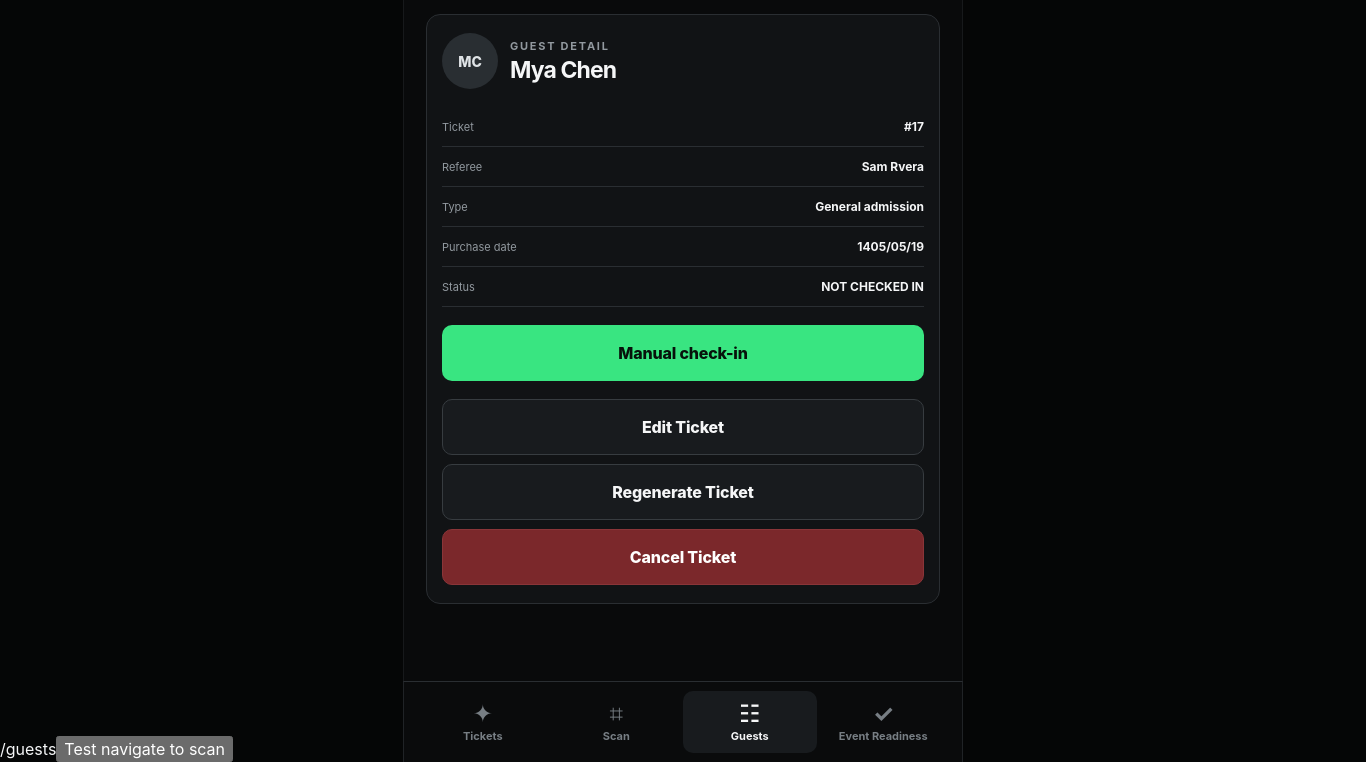
Test: ticket correction UI › lets ADMIN correct ticket details and offers updated artwork without replacing the QR
(page scrolled)
Click the button "Edit Ticket" at (683, 428), box [442,400,924,456]
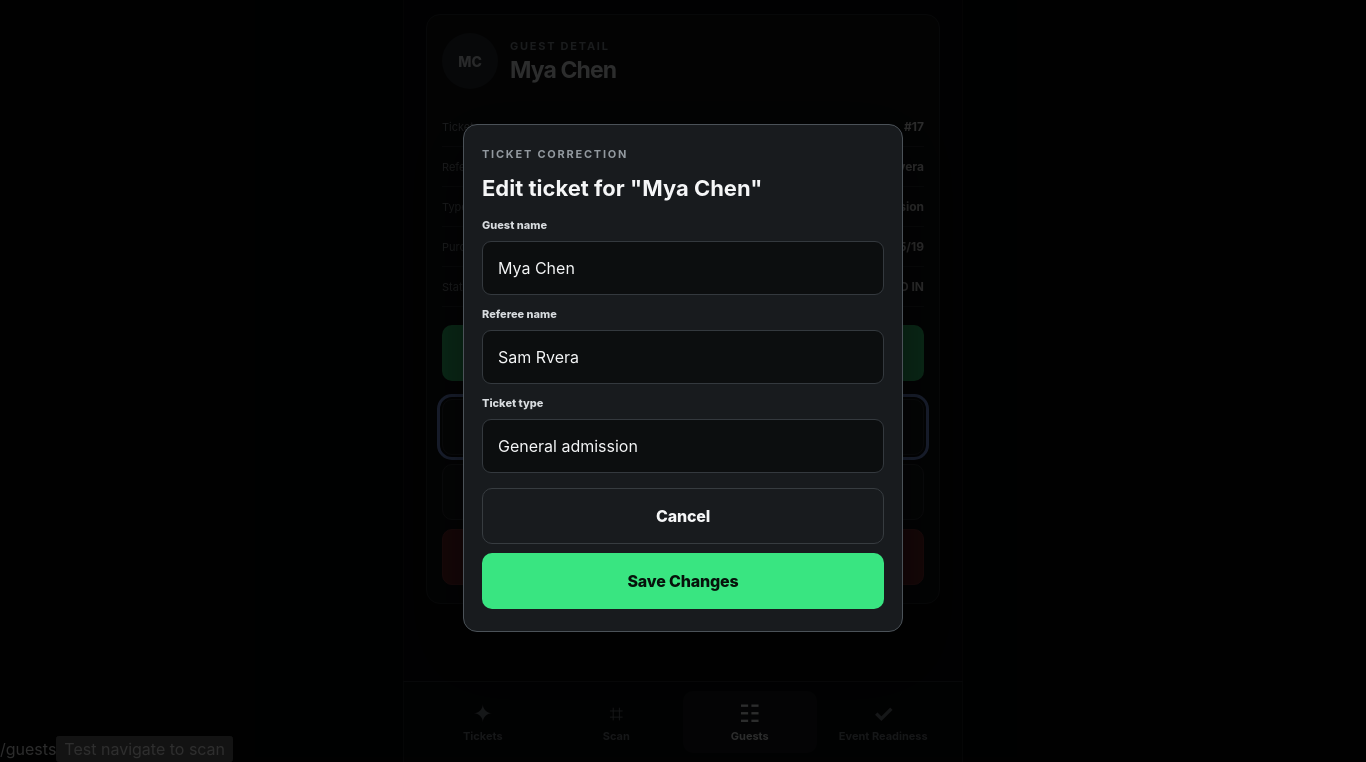
Replace the text in the field labelled "Guest name" with "Maya Chen" at (683, 268), box [482,241,884,295]
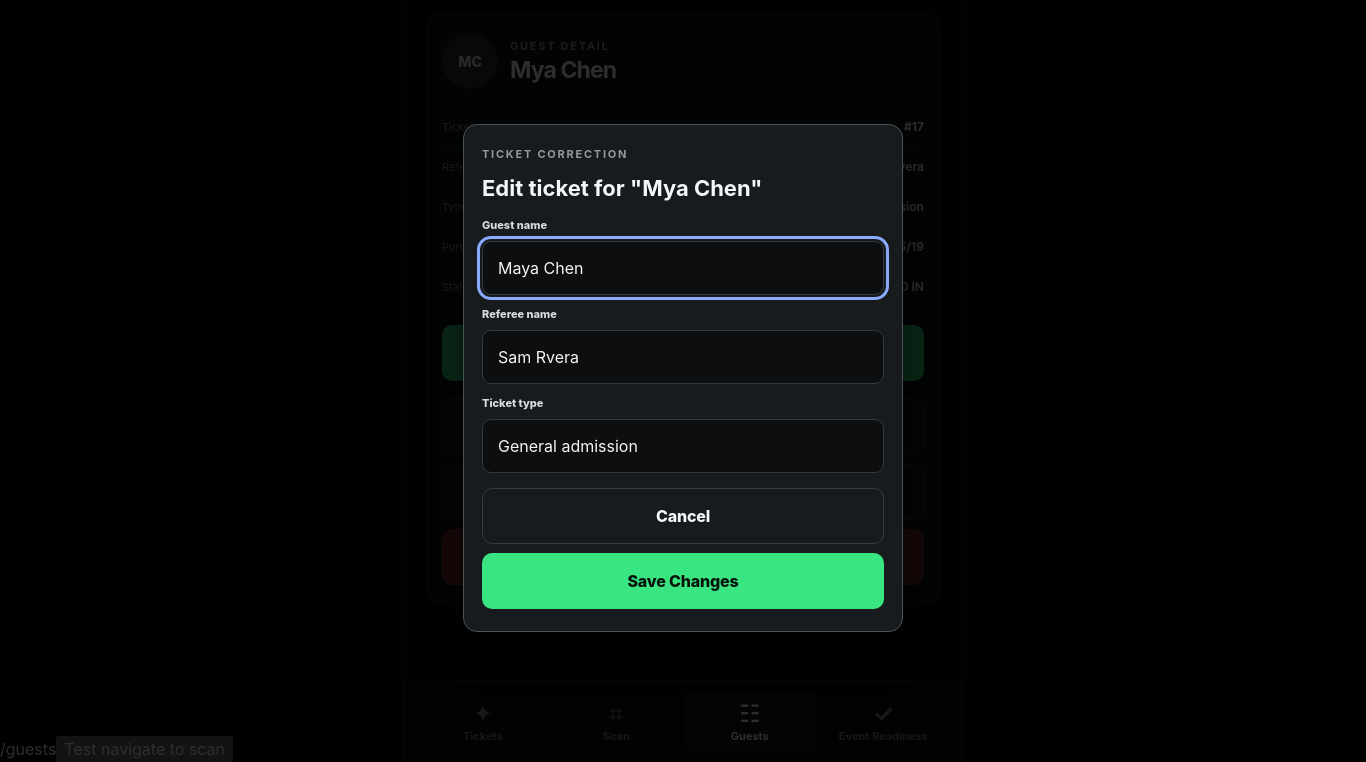
Replace the text in the field labelled "Referee name" with "Sam Rivera" at (683, 357), box [482,330,884,384]
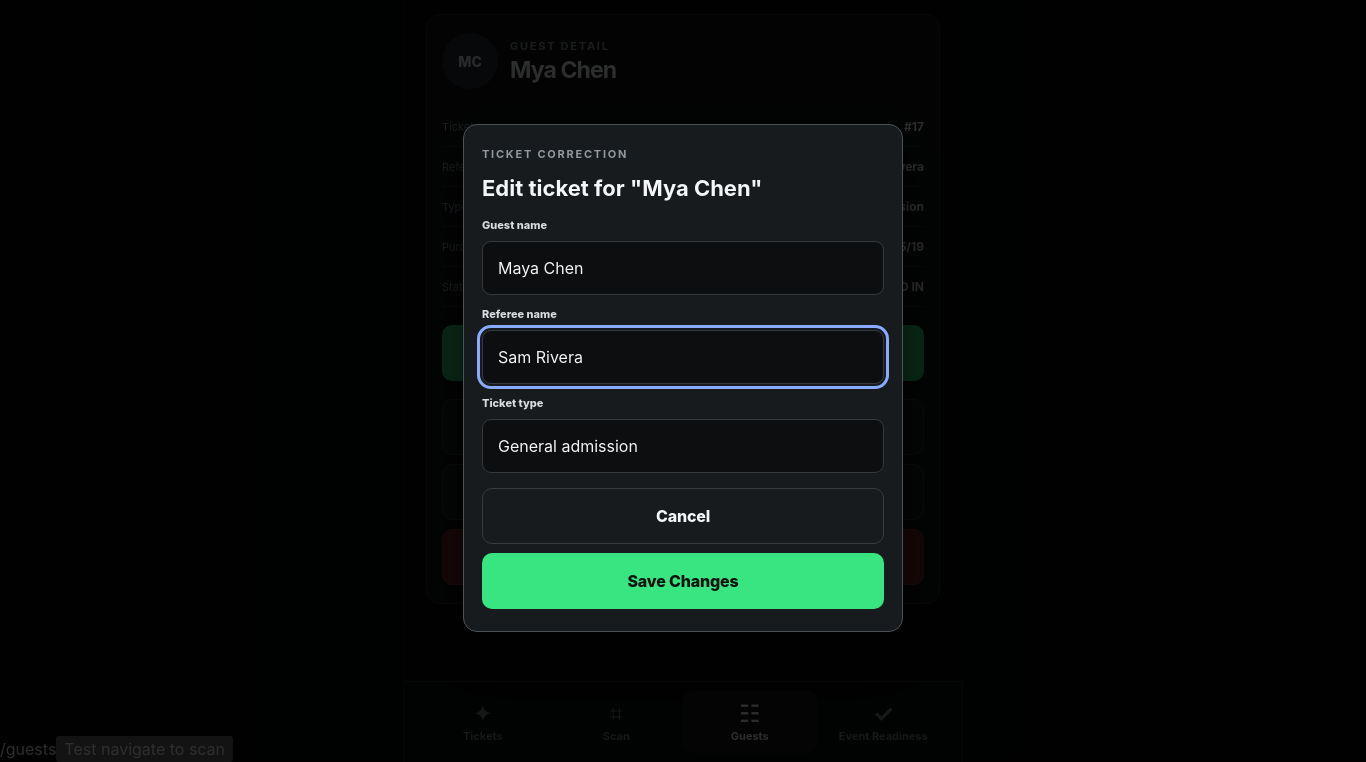
Select "VIP" in the dropdown labelled "Ticket type" at (683, 446), box [482,419,884,473]
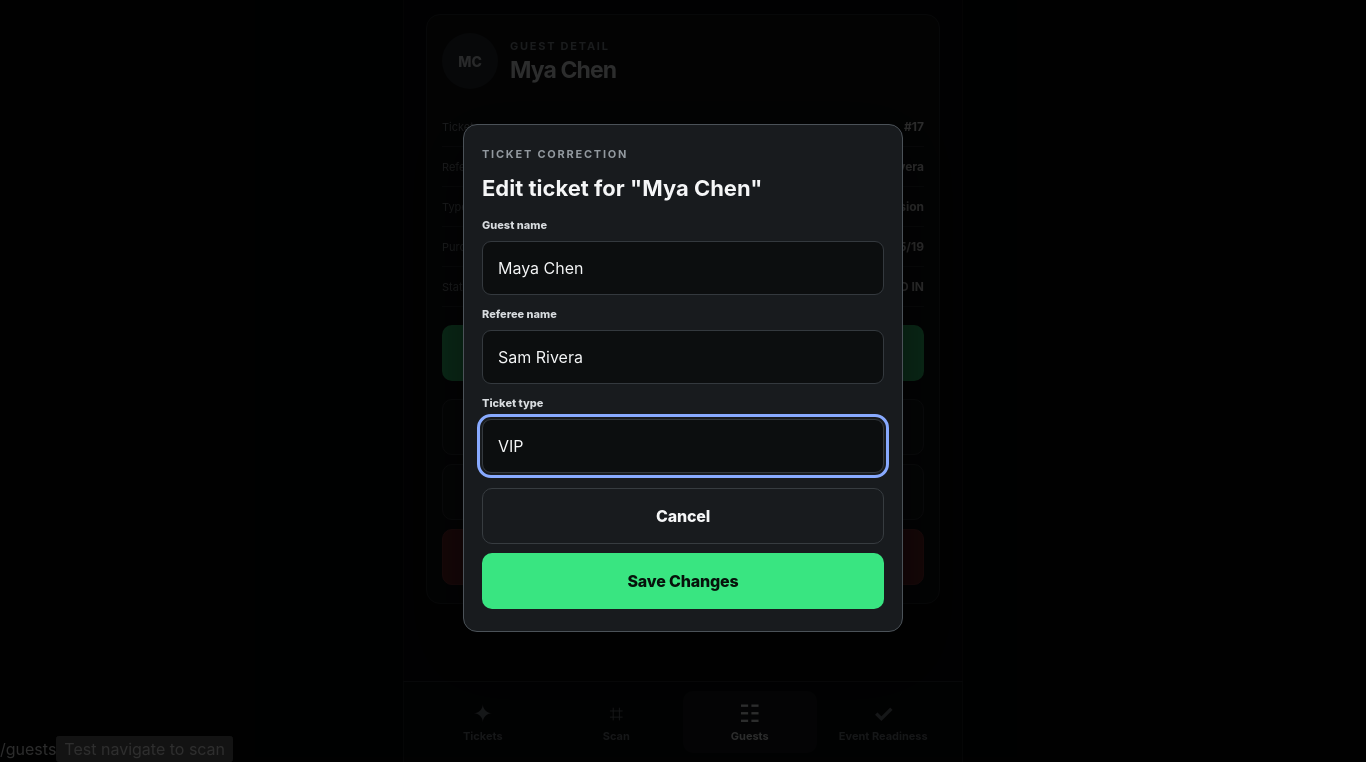
Click the button "Save Changes" at (683, 581), box [482,553,884,609]
(page scrolled)
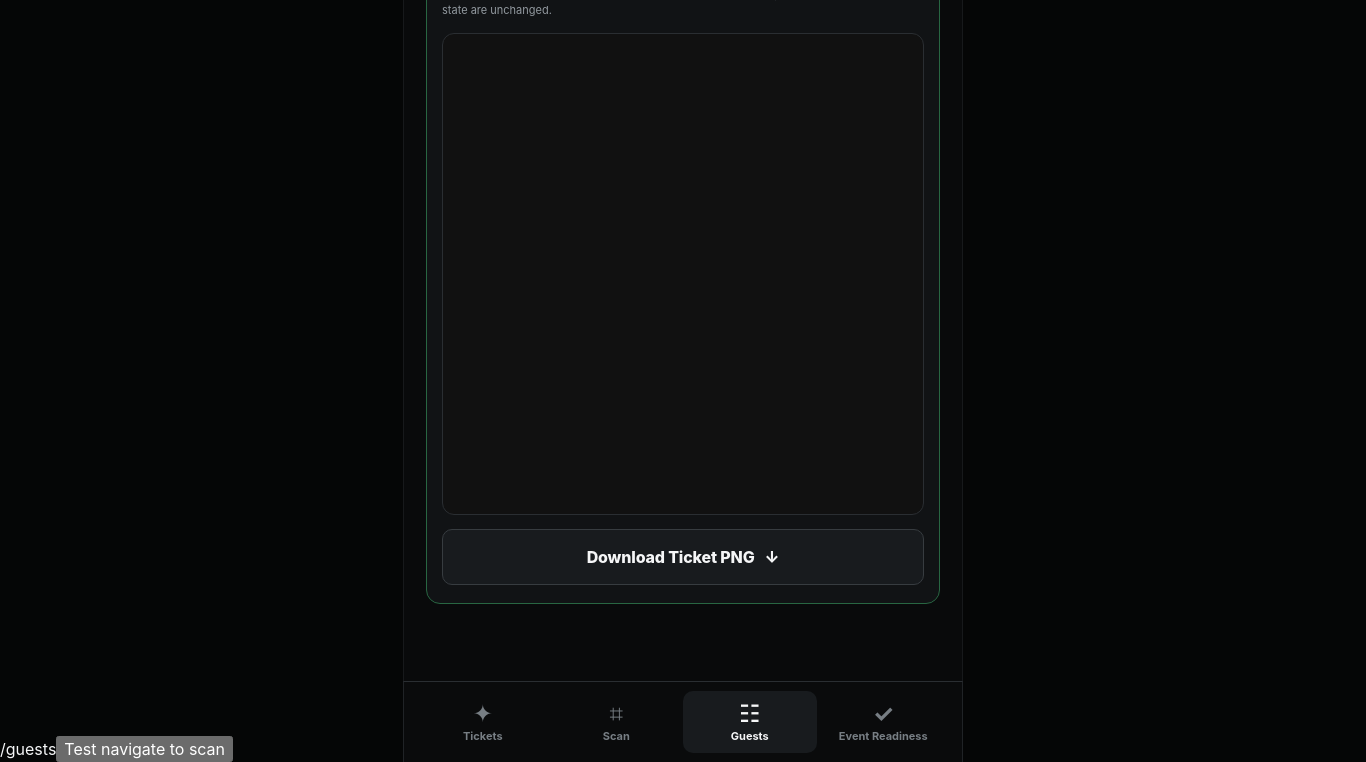
Now the button "Download Ticket PNG ↓" is enabled, box [442,528,924,584]
